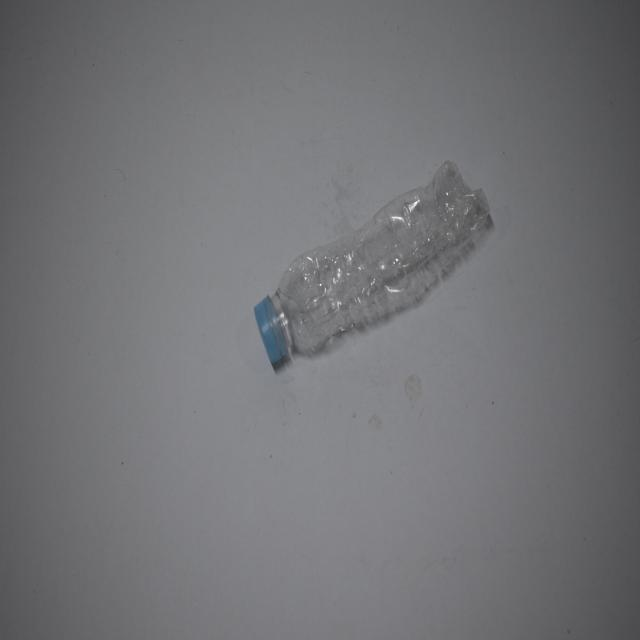empty: (254, 161, 492, 366)
